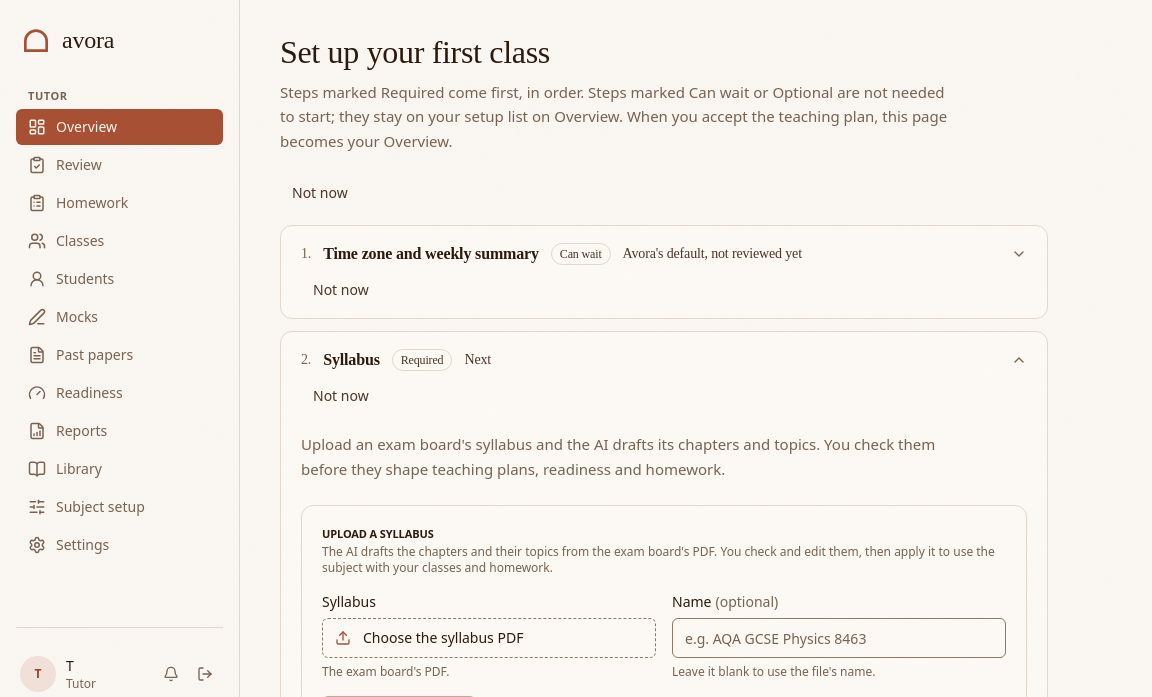
Test: hiding the whole guide keeps the same live region node
The width and height of the screenshot is (1152, 697).
Click the button with aria-label "Not now: setting up your first class" at (320, 193), box [280, 177, 360, 209]
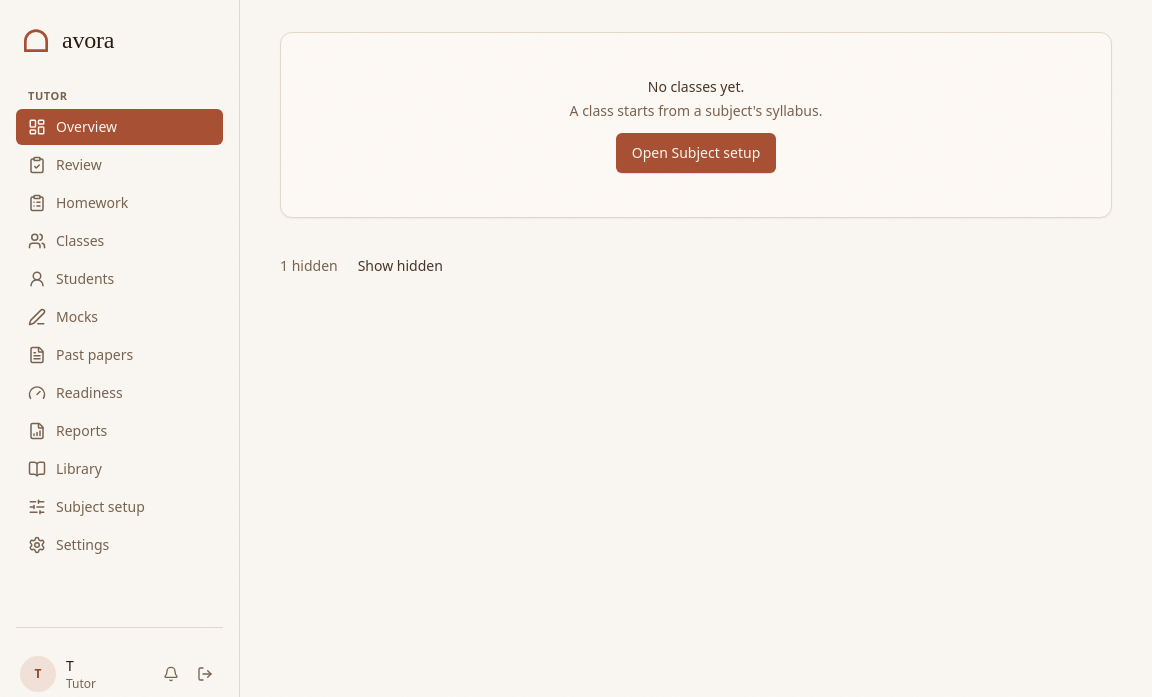
Expected: the text "No classes yet." is shown, [648, 77, 744, 96]
